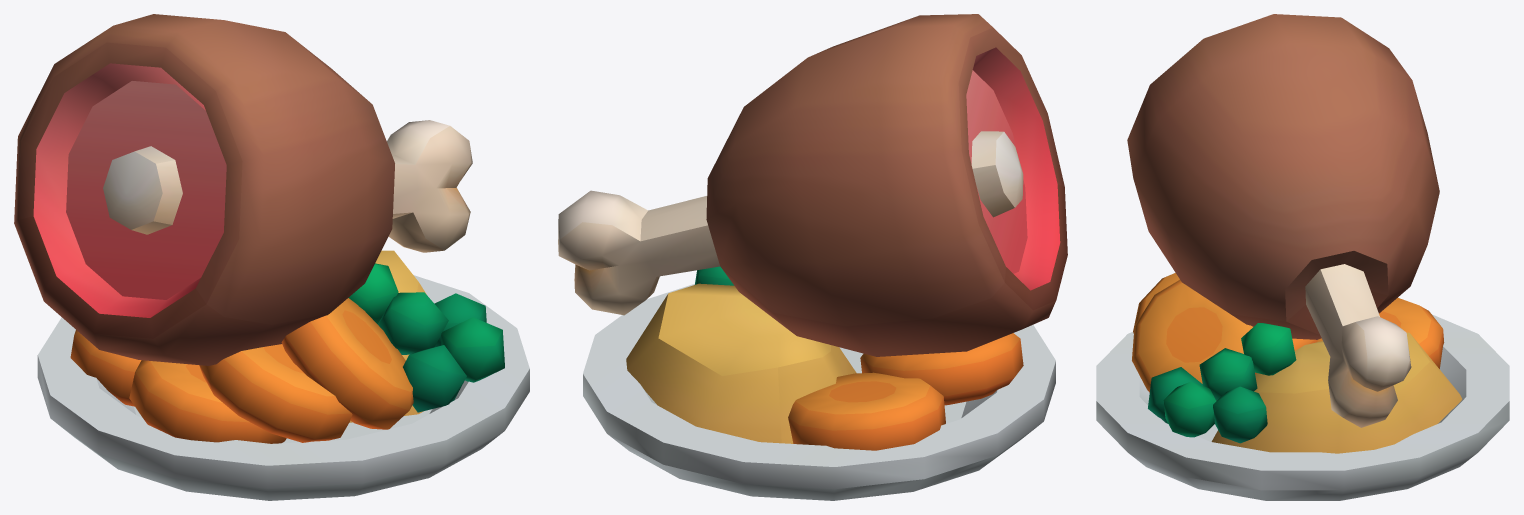
Rendered from kkr.food_dinner.glb.
The picture shows the model from 3 angles, left to right: view 1: azimuth 30°, elevation 25°; view 2: azimuth 150°, elevation 25°; view 3: azimuth 270°, elevation 25°; orthographic projection. The views are drawn at different scales.
Parts seen in each view (by area): view 1: food_dinner; view 2: food_dinner; view 3: food_dinner.
Part boxes in pixels (x1,y1,x2,y2): food_dinner: (14,14,529,500); food_dinner: (558,14,1067,500); food_dinner: (1096,14,1509,500).
Bounding box in the file's own units: 0.286 × 0.2503 × 0.2619.
1 material, 1 textured.
